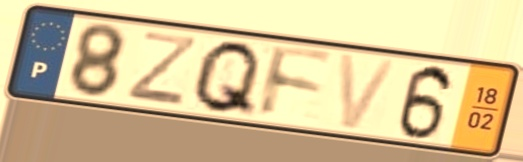6: (396, 63, 457, 143)
8: (64, 20, 130, 101)
F: (257, 41, 337, 121)
Q: (188, 37, 266, 120)
V: (336, 51, 402, 132)
Z: (123, 28, 201, 110)
